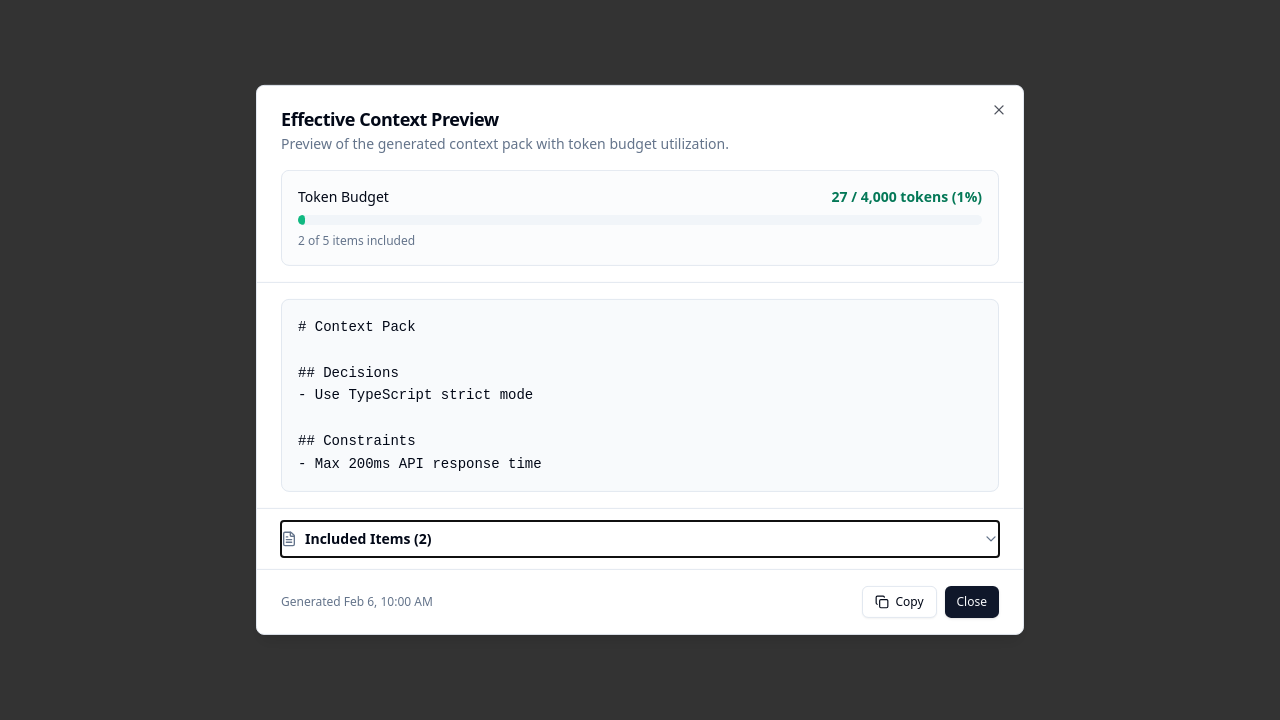
Test case: EffectiveContextPreview › Item Summary › shows confidence percentages for items
This screenshot has width=1280, height=720.
// Expand items
Click the button with aria-label "toggle included items" at coordinates (362, 539), box [281, 521, 999, 557]
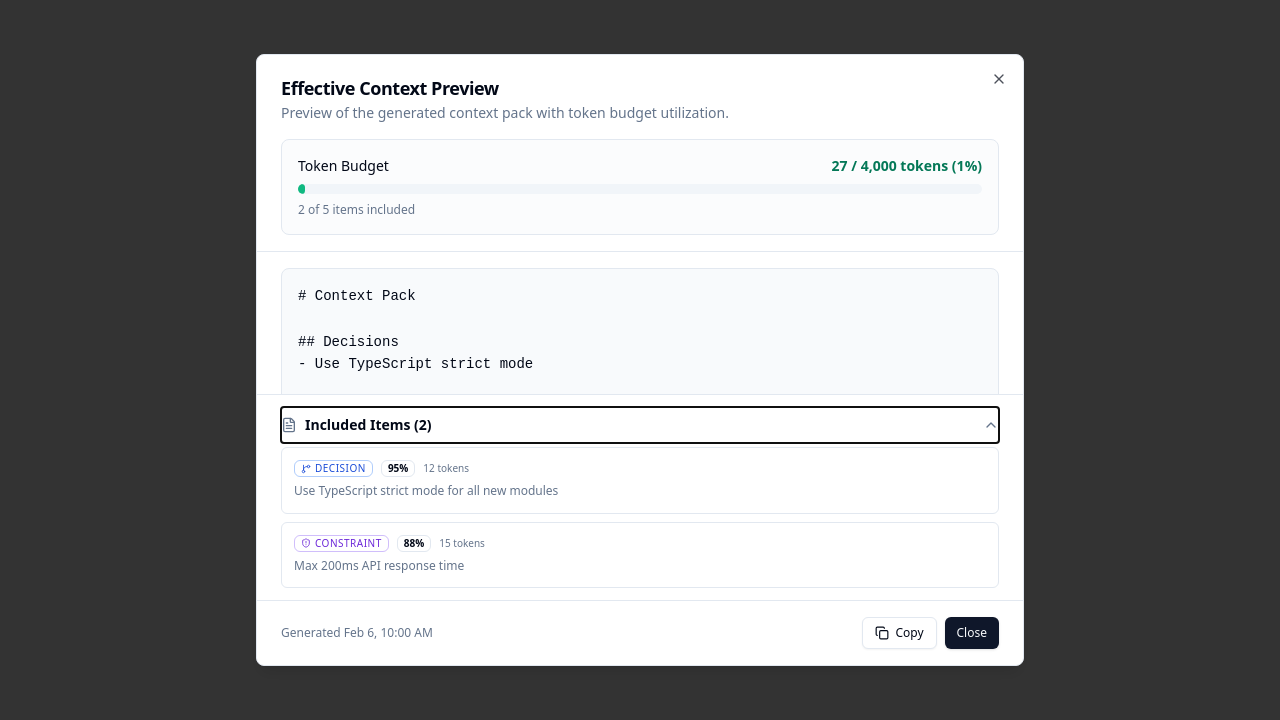
Check: the text "95%" is shown, box [381, 460, 415, 477]
Check: the text "88%" is shown, box [397, 534, 431, 552]
